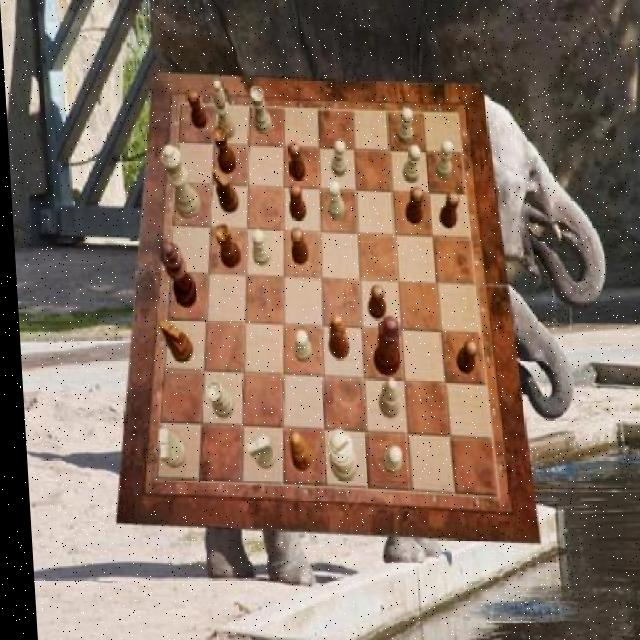bishop: (323, 314, 346, 359), (283, 432, 308, 472)
black-bishop: (156, 240, 195, 309)
black-king: (155, 318, 189, 362), (210, 168, 236, 214)
black-knight: (184, 91, 206, 131), (435, 191, 457, 228), (450, 339, 473, 373), (286, 226, 305, 264), (402, 188, 422, 224), (286, 143, 304, 182), (286, 183, 304, 221), (364, 285, 383, 319)
black-pawn: (366, 317, 399, 377)
black-queen: (211, 126, 236, 176), (211, 223, 237, 269)
black-rook: (211, 80, 234, 140), (372, 378, 395, 418)
white-bishop: (320, 429, 351, 483)
white-king: (152, 428, 182, 468), (239, 435, 271, 470)
white-knight: (432, 140, 453, 180), (398, 146, 419, 185), (394, 106, 413, 144), (324, 182, 342, 220), (248, 230, 266, 266), (289, 329, 308, 363), (328, 140, 345, 178), (375, 446, 396, 474)
white-pawn: (158, 145, 199, 219)
white-queen: (201, 382, 230, 419), (247, 86, 269, 134)
